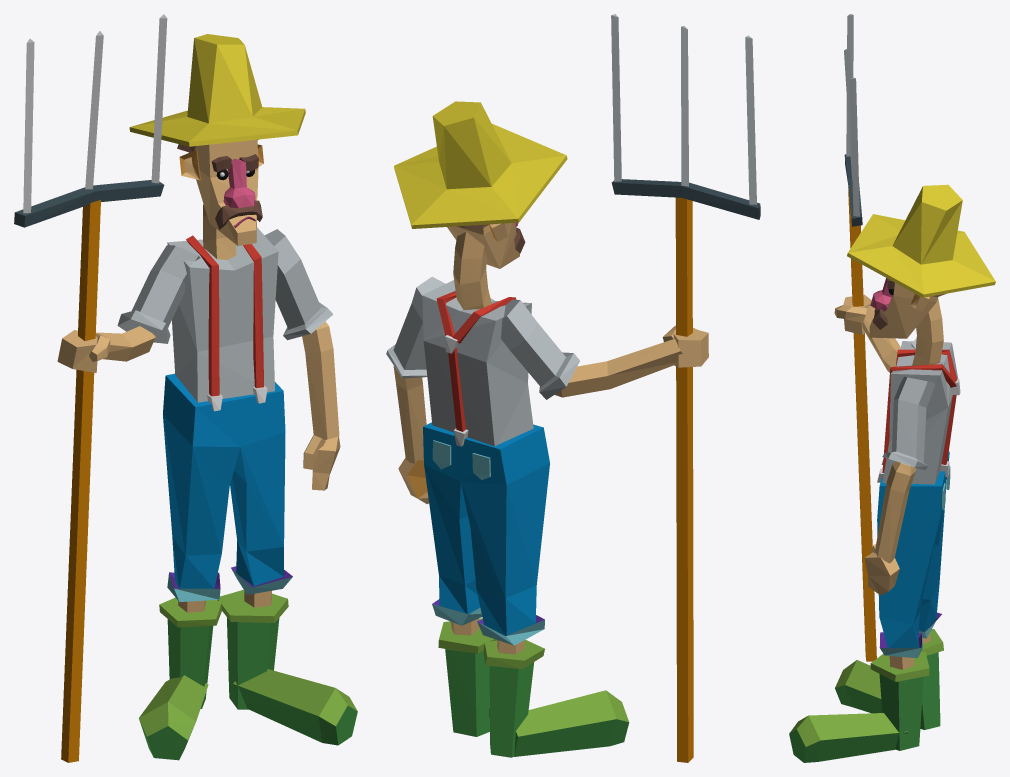
Rendered from scout.gltf.
3 renders of one model, left to right at view 1: azimuth 30°, elevation 25°; view 2: azimuth 150°, elevation 25°; view 3: azimuth 270°, elevation 25°, orthographic. The views are drawn at different scales.
Visible parts, largest first — view 1: node_MeshObject-1803805056-PolyPaper18; view 2: node_MeshObject-1803805056-PolyPaper18; view 3: node_MeshObject-1803805056-PolyPaper18.
Boxes of the visible parts, box(x1,y1,x2,y2) form: node_MeshObject-1803805056-PolyPaper18: box(14, 14, 357, 762); node_MeshObject-1803805056-PolyPaper18: box(386, 14, 760, 762); node_MeshObject-1803805056-PolyPaper18: box(789, 14, 995, 762).
Bounding box in the file's own units: 1.32 × 2.74 × 0.8124.
